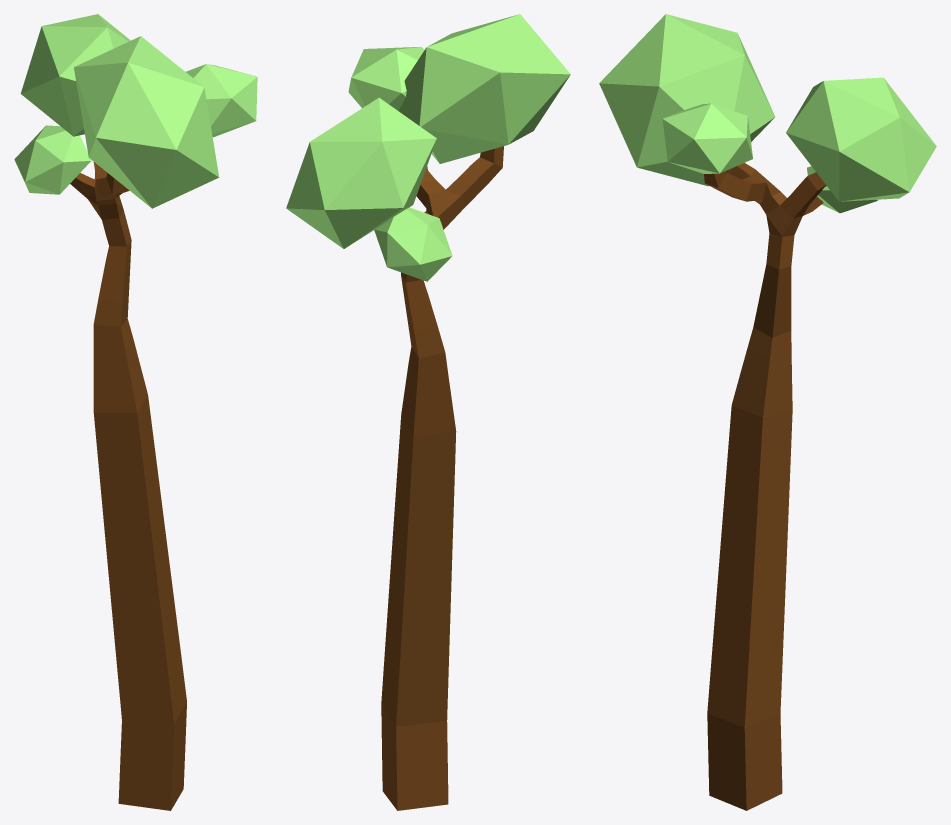
File: Arvore_Tipo1_MarinaPardalP01.fbx
The picture shows the model from 3 angles, left to right: view 1: azimuth 30°, elevation 25°; view 2: azimuth 150°, elevation 25°; view 3: azimuth 270°, elevation 25°; orthographic projection. The views are drawn at different scales.
Parts seen in each view (by area): view 1: Cube.060, Icosphere.042, Icosphere.052, Icosphere.005, Icosphere.022; view 2: Cube.060, Icosphere.042, Icosphere.052, Icosphere.005, Icosphere.022; view 3: Cube.060, Icosphere.042, Icosphere.052, Icosphere.022, Icosphere.005.
Part boxes in pixels (<box>): Cube.060: <box>70,162,186,810</box>; Icosphere.042: <box>74,36,219,208</box>; Icosphere.052: <box>20,14,130,136</box>; Icosphere.005: <box>14,125,91,194</box>; Icosphere.022: <box>186,64,257,137</box>; Cube.060: <box>381,146,503,810</box>; Icosphere.042: <box>399,14,570,163</box>; Icosphere.052: <box>286,97,436,248</box>; Icosphere.005: <box>374,207,452,281</box>; Icosphere.022: <box>348,46,424,110</box>; Cube.060: <box>704,163,826,810</box>; Icosphere.042: <box>599,14,775,186</box>; Icosphere.052: <box>786,77,936,201</box>; Icosphere.022: <box>662,103,752,173</box>; Icosphere.005: <box>807,166,878,213</box>.
Bounding box in the file's own units: 1882 × 7470 × 3044.
